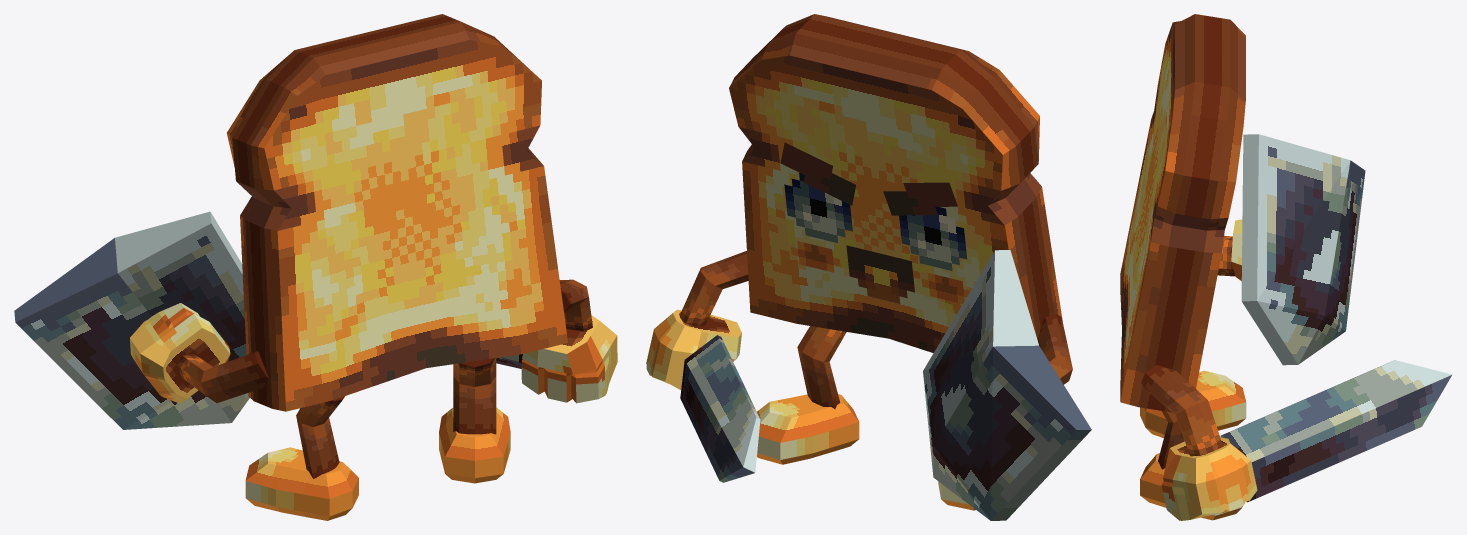
3 renders of one model, left to right at view 1: azimuth 30°, elevation 25°; view 2: azimuth 150°, elevation 25°; view 3: azimuth 270°, elevation 25°, orthographic. The views are drawn at different scales.
Visible parts, largest first — view 1: cuboid, cube (×9); view 2: cuboid, cube (×7), plane (×7); view 3: cube (×9), cuboid.
Part boxes in pixels (x1=…): cuboid: x1=227, y1=14, x2=567, y2=411; cube (×9): x1=14, y1=211, x2=617, y2=520; cuboid: x1=729, y1=14, x2=1062, y2=352; cube (×7): x1=646, y1=250, x2=1091, y2=520; plane (×7): x1=780, y1=142, x2=970, y2=303; cube (×9): x1=1140, y1=134, x2=1451, y2=520; cuboid: x1=1120, y1=14, x2=1245, y2=412.
Size of the model in its own units: 3.95 by 3.19 by 2.31.
1 material, 1 textured.
